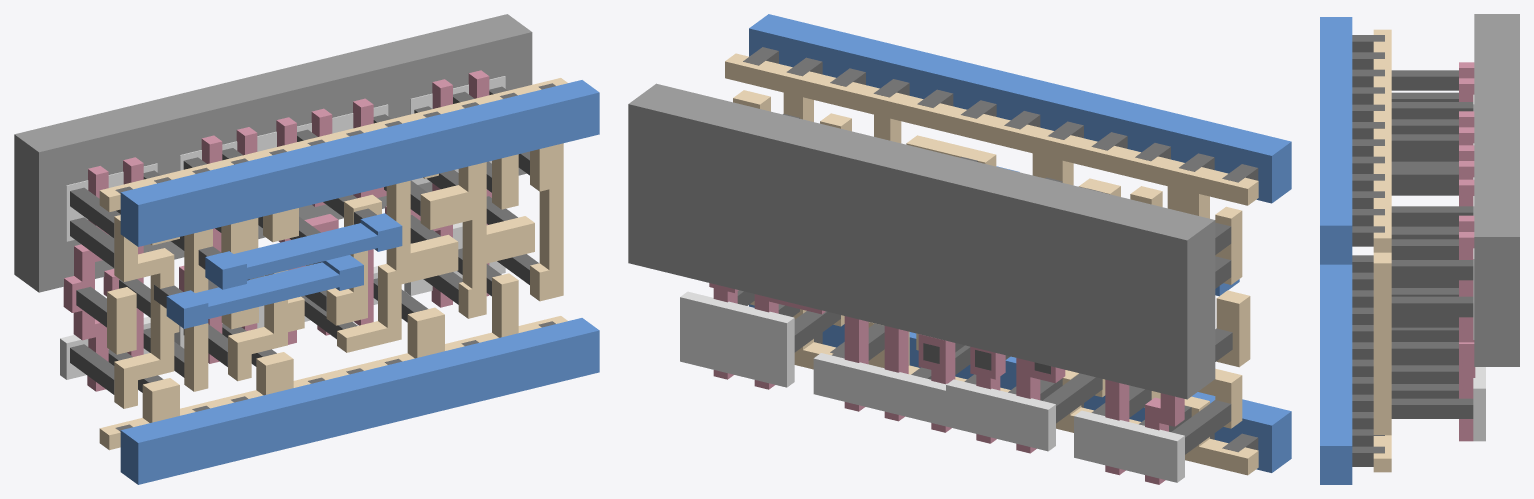
The model's file is sky130_fd_sc_hd__dlxtp_1.gds.gltf.
3 renders of one model, left to right at view 1: azimuth 30°, elevation 25°; view 2: azimuth 150°, elevation 25°; view 3: azimuth 270°, elevation 25°, orthographic. The views are drawn at different scales.
Visible parts, largest first — view 1: sky130_fd_sc_hd__dlxtp_1_met1, sky130_fd_sc_hd__dlxtp_1_li1, sky130_fd_sc_hd__dlxtp_1_nwell, sky130_fd_sc_hd__dlxtp_1_licon, sky130_fd_sc_hd__dlxtp_1_poly, sky130_fd_sc_hd__dlxtp_1_diff, sky130_fd_sc_hd__dlxtp_1_mcon; view 2: sky130_fd_sc_hd__dlxtp_1_nwell, sky130_fd_sc_hd__dlxtp_1_li1, sky130_fd_sc_hd__dlxtp_1_met1, sky130_fd_sc_hd__dlxtp_1_diff, sky130_fd_sc_hd__dlxtp_1_poly, sky130_fd_sc_hd__dlxtp_1_licon, sky130_fd_sc_hd__dlxtp_1_mcon; view 3: sky130_fd_sc_hd__dlxtp_1_licon, sky130_fd_sc_hd__dlxtp_1_nwell, sky130_fd_sc_hd__dlxtp_1_met1, sky130_fd_sc_hd__dlxtp_1_mcon, sky130_fd_sc_hd__dlxtp_1_li1, sky130_fd_sc_hd__dlxtp_1_poly, sky130_fd_sc_hd__dlxtp_1_diff.
Boxes of the visible parts, x1=… form: sky130_fd_sc_hd__dlxtp_1_met1: x1=120, y1=80, x2=599, y2=484; sky130_fd_sc_hd__dlxtp_1_li1: x1=99, y1=78, x2=567, y2=450; sky130_fd_sc_hd__dlxtp_1_nwell: x1=14, y1=14, x2=532, y2=292; sky130_fd_sc_hd__dlxtp_1_licon: x1=70, y1=86, x2=538, y2=394; sky130_fd_sc_hd__dlxtp_1_poly: x1=63, y1=70, x2=491, y2=391; sky130_fd_sc_hd__dlxtp_1_diff: x1=60, y1=76, x2=505, y2=379; sky130_fd_sc_hd__dlxtp_1_mcon: x1=115, y1=83, x2=555, y2=431; sky130_fd_sc_hd__dlxtp_1_nwell: x1=628, y1=83, x2=1215, y2=399; sky130_fd_sc_hd__dlxtp_1_li1: x1=725, y1=53, x2=1258, y2=475; sky130_fd_sc_hd__dlxtp_1_met1: x1=749, y1=14, x2=1291, y2=472; sky130_fd_sc_hd__dlxtp_1_diff: x1=680, y1=291, x2=1184, y2=482; sky130_fd_sc_hd__dlxtp_1_poly: x1=709, y1=283, x2=1184, y2=484; sky130_fd_sc_hd__dlxtp_1_licon: x1=737, y1=114, x2=1232, y2=454; sky130_fd_sc_hd__dlxtp_1_mcon: x1=743, y1=47, x2=1258, y2=452; sky130_fd_sc_hd__dlxtp_1_licon: x1=1391, y1=70, x2=1473, y2=418; sky130_fd_sc_hd__dlxtp_1_nwell: x1=1474, y1=14, x2=1519, y2=366; sky130_fd_sc_hd__dlxtp_1_met1: x1=1320, y1=17, x2=1352, y2=484; sky130_fd_sc_hd__dlxtp_1_mcon: x1=1352, y1=35, x2=1384, y2=466; sky130_fd_sc_hd__dlxtp_1_li1: x1=1373, y1=29, x2=1391, y2=472; sky130_fd_sc_hd__dlxtp_1_poly: x1=1459, y1=62, x2=1475, y2=441; sky130_fd_sc_hd__dlxtp_1_diff: x1=1473, y1=94, x2=1485, y2=441.
Bounding box in the file's own units: 5.9 × 3.2 × 2.24.
